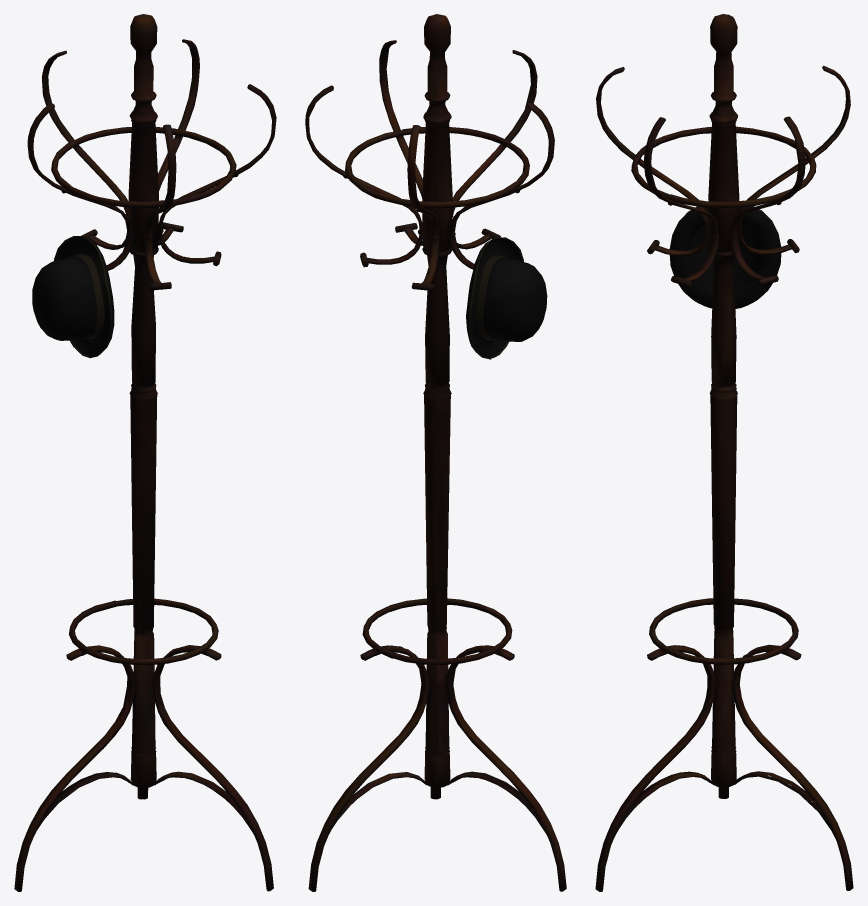
Rendered from obj_coat_rack_bowler_hat.glb.
3 views of the same model, side by side, from view 1: azimuth 30°, elevation 25°; view 2: azimuth 150°, elevation 25°; view 3: azimuth 270°, elevation 25° (orthographic).
Parts seen in each view (by area): view 1: Object_2; view 2: Object_2; view 3: Object_2.
Part boxes in pixels (<box>): Object_2: <box>14,14,276,891</box>; Object_2: <box>305,14,566,891</box>; Object_2: <box>595,14,853,891</box>.
Bounding box in the file's own units: 0.5121 × 1.85 × 0.5136.
Materials: 3 (2 with a texture image).
